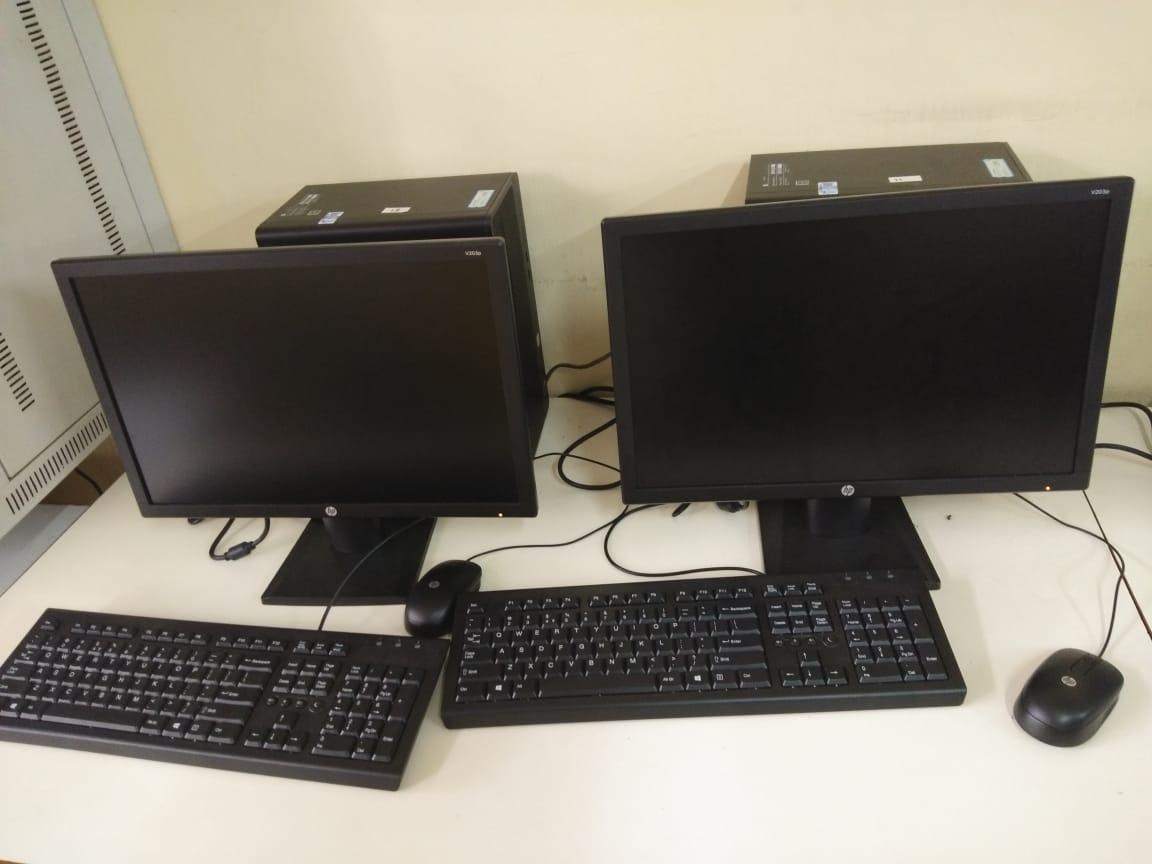keyboard: (430, 546, 980, 743), (1, 592, 439, 807)
monitor: (593, 159, 1152, 557), (45, 221, 558, 592)
mouse: (1006, 637, 1137, 757), (401, 553, 488, 642)
